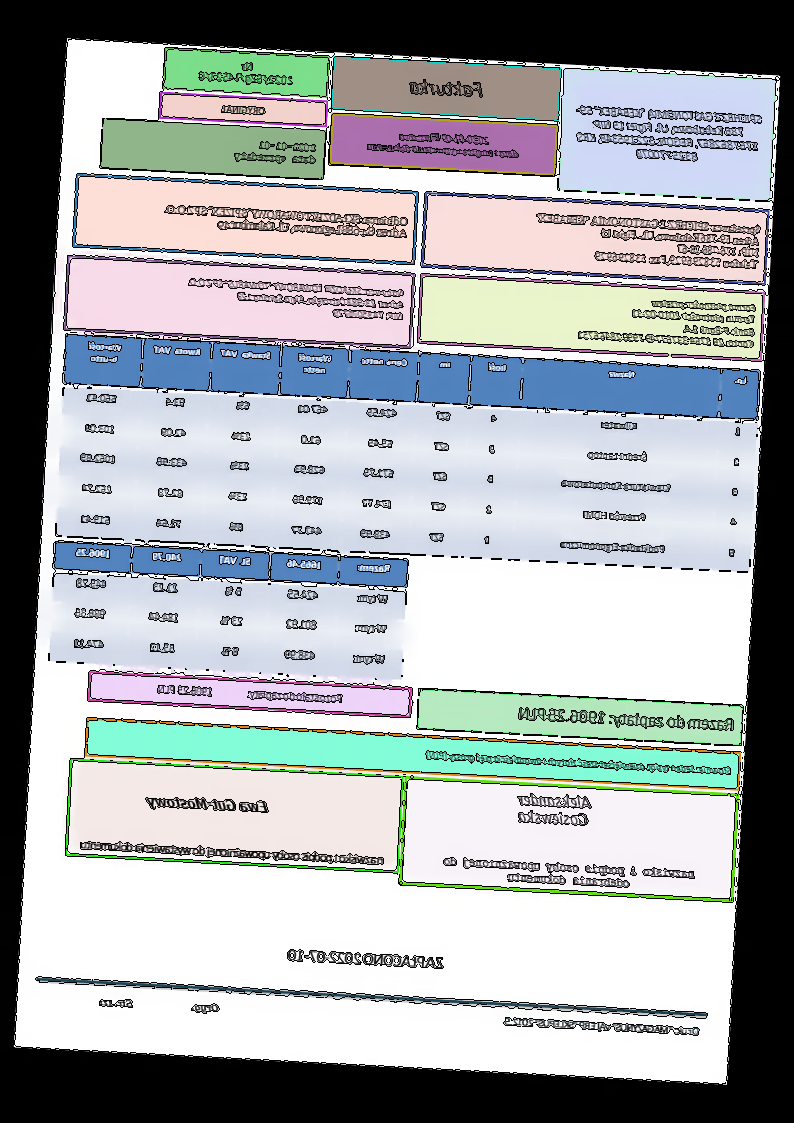Table: (54, 333, 762, 574), (48, 540, 410, 680)
TextBox: (531, 210, 763, 272), (572, 102, 768, 168), (185, 275, 408, 323), (575, 292, 759, 350), (163, 201, 413, 241), (443, 854, 697, 893), (79, 837, 387, 869), (424, 748, 733, 777), (517, 704, 736, 735), (365, 128, 521, 161), (502, 1015, 703, 1039), (286, 946, 448, 973), (157, 682, 344, 705), (143, 791, 271, 818), (511, 790, 594, 829), (196, 57, 297, 88), (232, 137, 318, 168), (96, 995, 223, 1015), (408, 77, 486, 102), (219, 102, 269, 116)
